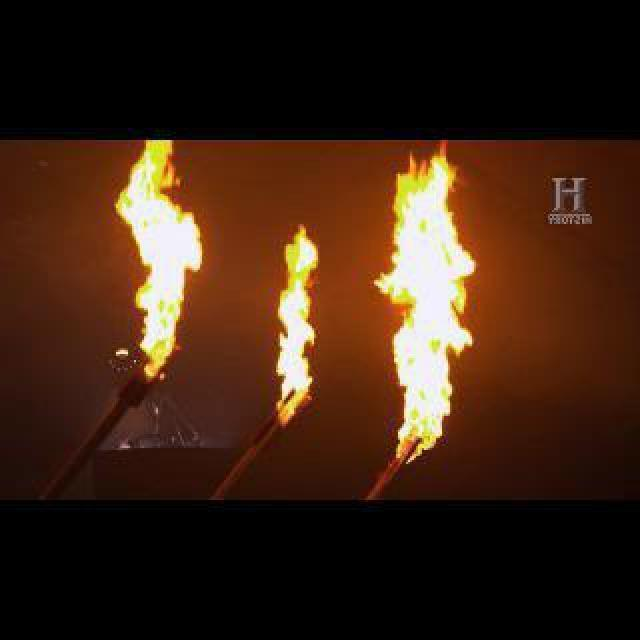Fire: (384, 154, 472, 434), (114, 144, 192, 372), (274, 232, 324, 410)
